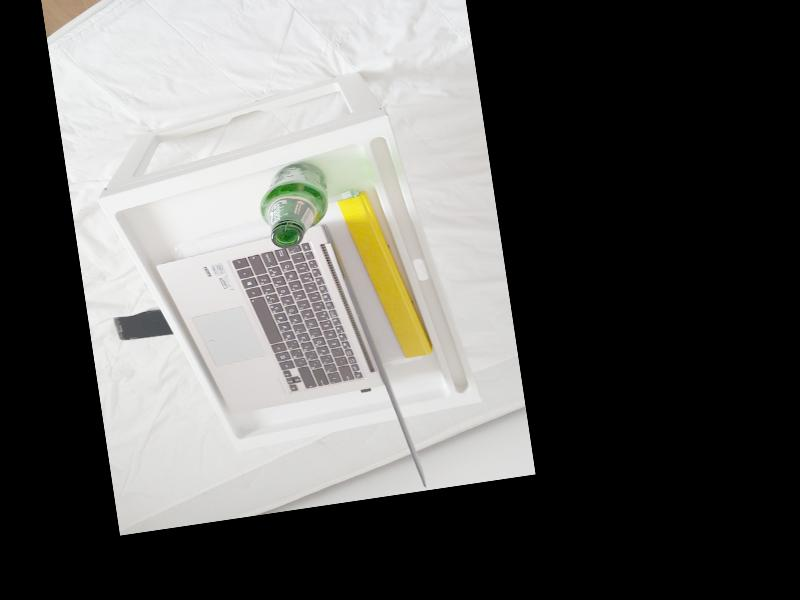Beer: (253, 158, 334, 250)
